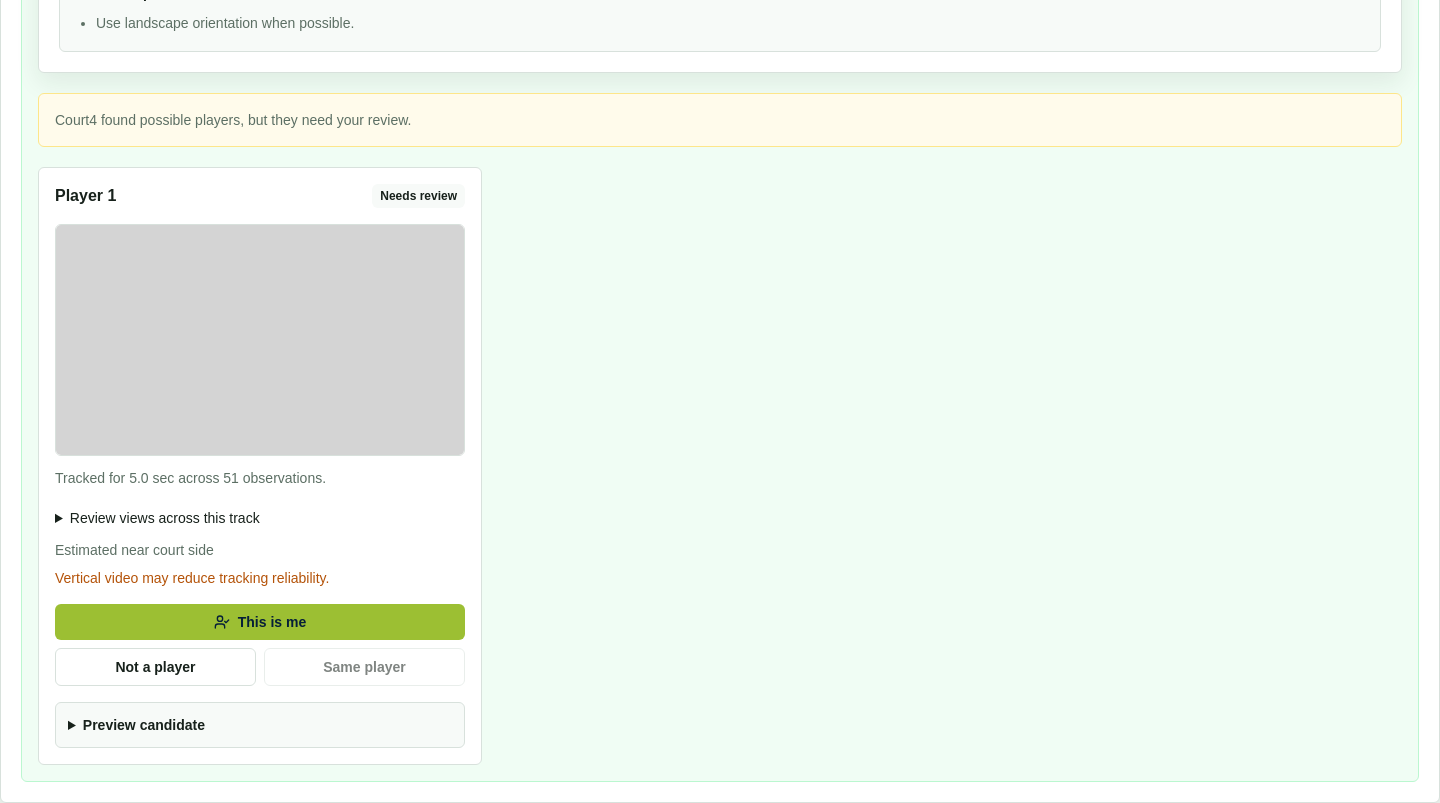
match details workflow › shows candidate quality, preview, and guidance without raw lineage
(page scrolled)
Expected: the text "Needs review" is shown, [372,184,465,208]
Expected: the list item "Use landscape orientation when possible." is shown, [96,15,354,31]
Click the heading "Preview candidate". click: {"x": 144, "y": 724}
box: [83,716,205,732]
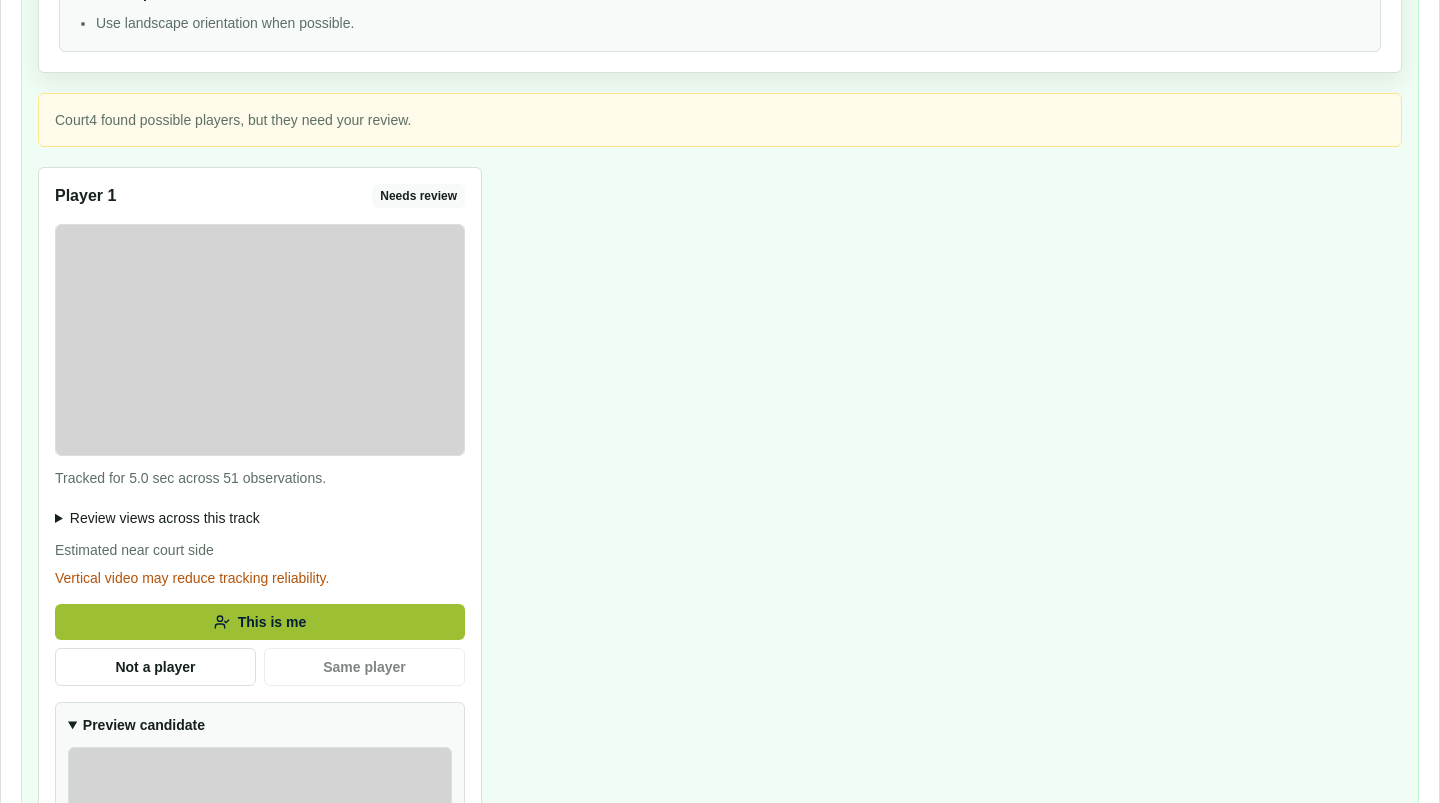
Expected: the number of pictures named "Player 1 at" is 3
